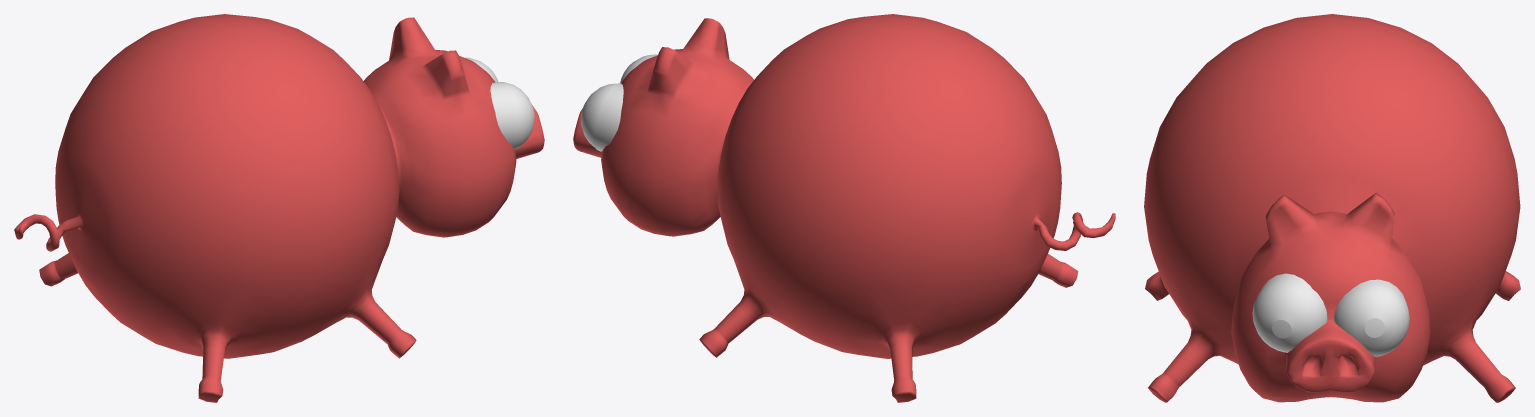
Rendered from SM_Pig_01.FBX.
3 views of the same model, side by side, from view 1: azimuth 30°, elevation 25°; view 2: azimuth 150°, elevation 25°; view 3: azimuth 270°, elevation 25° (orthographic). The views are drawn at different scales.
Visible parts, largest first — view 1: Object001, Object002; view 2: Object001, Object002; view 3: Object001, Object002, Box001.
Boxes of the visible parts, x1,y1,x2,y2 form: Object001: (14,14,544,402); Object002: (465,57,534,149); Object001: (573,14,1115,402); Object002: (581,54,657,151); Object001: (1144,14,1520,402); Object002: (1252,273,1409,356); Box001: (1272,318,1384,338).
Size of the model in its own units: 104 by 60.46 by 60.67.
